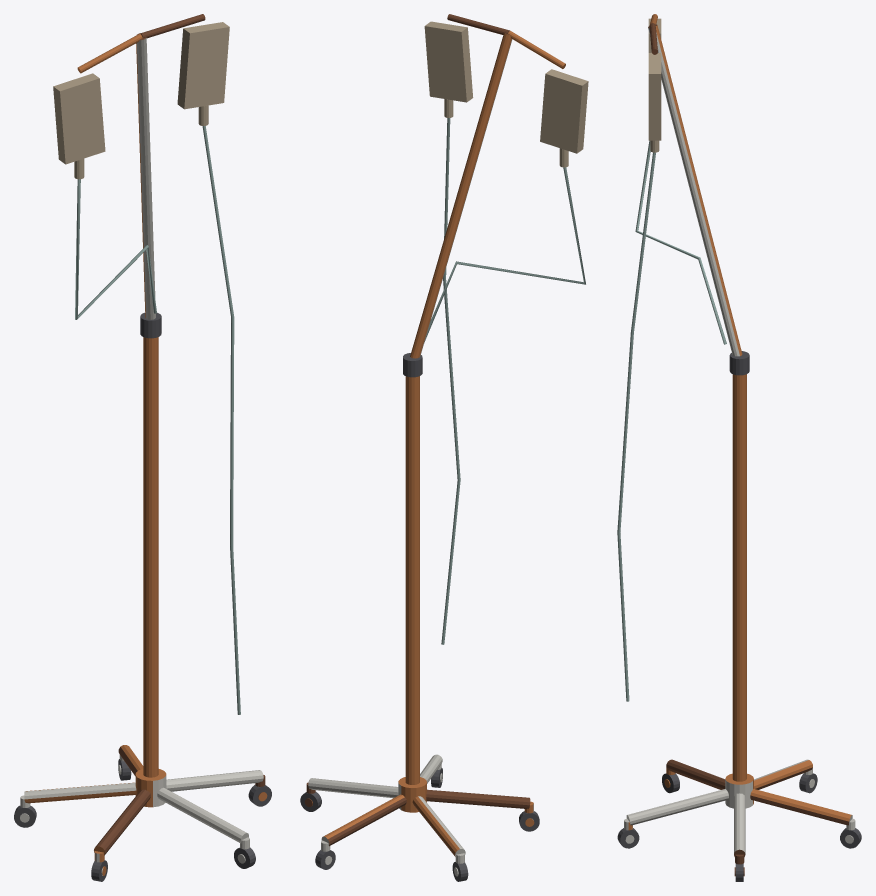
The model's file is operatingRoom_Ringer_v2.fbx.
3 renders of one model, left to right at view 1: azimuth 30°, elevation 25°; view 2: azimuth 150°, elevation 25°; view 3: azimuth 270°, elevation 25°, orthographic. The views are drawn at different scales.
Visible parts, largest first — view 1: 10_HamperAndIV_Damaged_IVStand; view 2: 10_HamperAndIV_Damaged_IVStand; view 3: 10_HamperAndIV_Damaged_IVStand.
Part boxes in pixels (x1,y1,x2,y2): 10_HamperAndIV_Damaged_IVStand: [14, 14, 271, 881]; 10_HamperAndIV_Damaged_IVStand: [300, 14, 588, 881]; 10_HamperAndIV_Damaged_IVStand: [617, 14, 861, 881].
Size of the model in its own units: 61.57 by 193 by 54.35.
